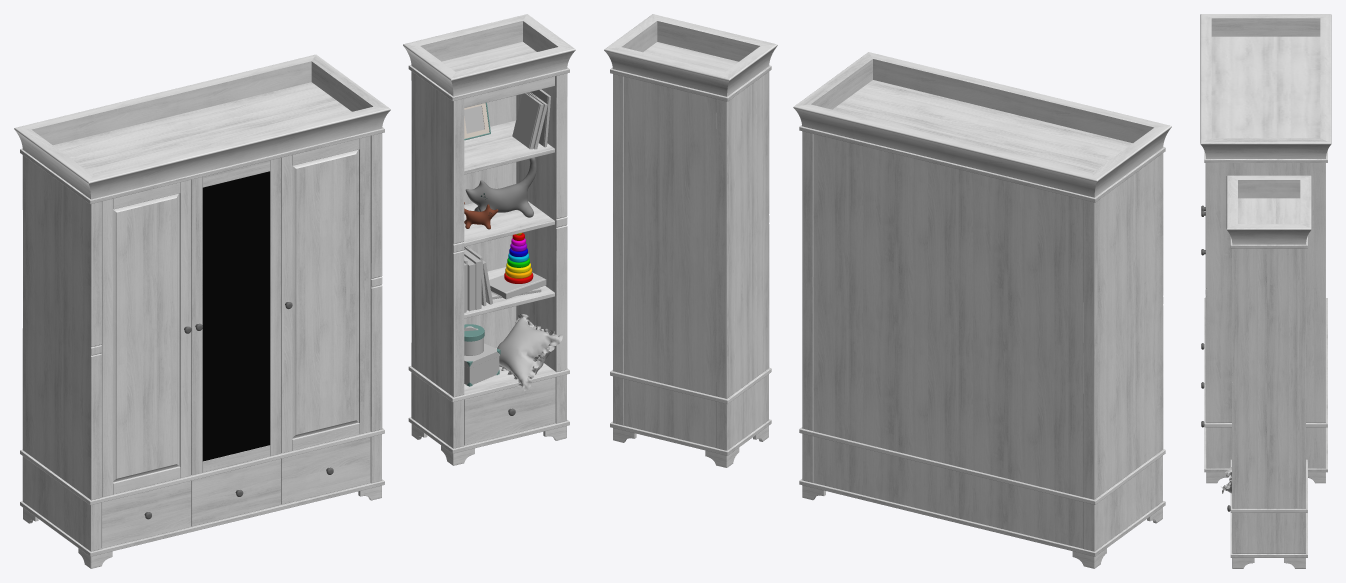
The model's file is dolap.fbx.
3 views of the same model, side by side, from view 1: azimuth 30°, elevation 25°; view 2: azimuth 150°, elevation 25°; view 3: azimuth 270°, elevation 25° (orthographic). The views are drawn at different scales.
Parts seen in each view (by area): view 1: dolap sabit, tek dolap raflı, dolap 2, dolap kapak 1, dolap aynalı kapak, çekmece 4, çekmece 3, çekmece 1, çekmece 2, yastık, kedü büyük, Book 09 (+3 smaller); view 2: dolap sabit, tek dolap raflı; view 3: dolap sabit, tek dolap raflı.
Part boxes in pixels (x1,y1,x2,y2): dolap sabit: (14,54,390,568); tek dolap raflı: (403,14,575,465); dolap 2: (281,136,370,453); dolap kapak 1: (101,180,191,497); dolap aynalı kapak: (191,158,280,475); çekmece 4: (464,377,555,445); çekmece 3: (101,481,191,548); çekmece 1: (281,437,370,504); çekmece 2: (191,459,280,526); yastık: (497,314,563,391); kedü büyük: (465,157,536,217); Book 09: (512,93,543,149); dolap sabit: (793,52,1171,568); tek dolap raflı: (604,14,777,467); dolap sabit: (1200,14,1331,483); tek dolap raflı: (1226,175,1311,568).
Bounding box in the file's own units: 276 × 205 × 71.03.
